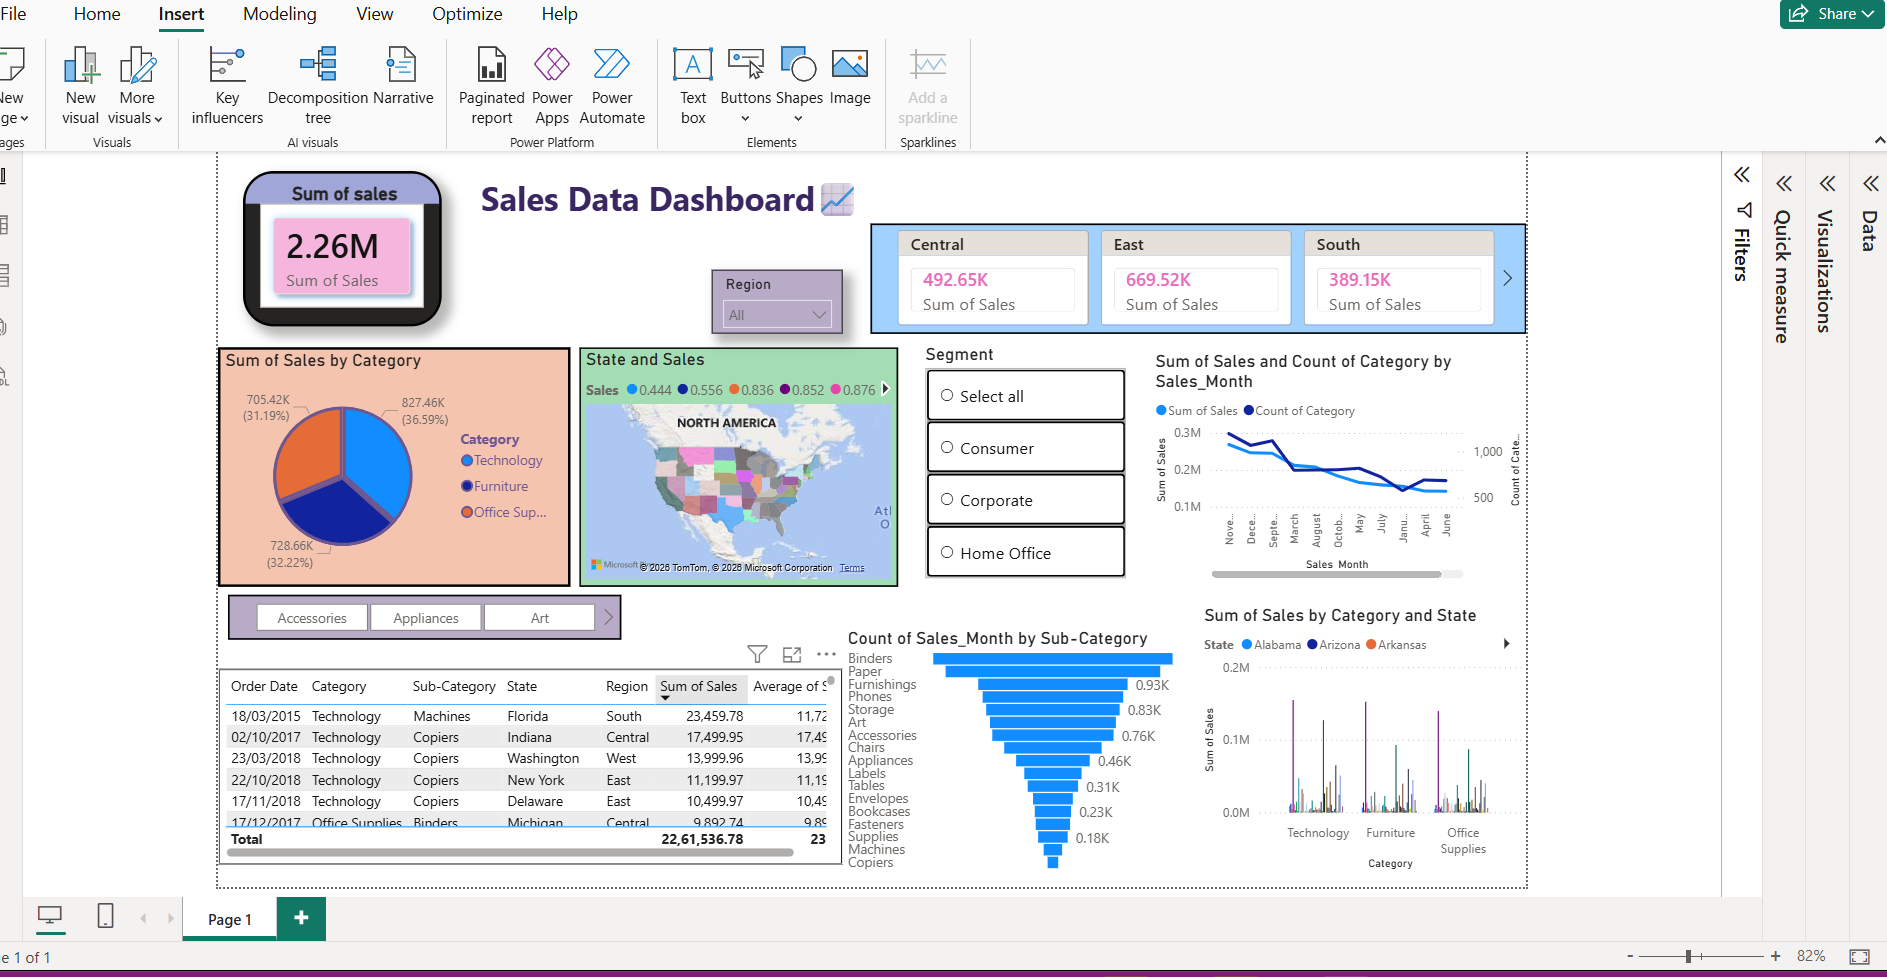

The dashboard page shown, as its layout file describes it:
{"tool":"powerbi","page":{"name":"Page 1","canvas":[1280,720],"ordinal":0},"visuals":[{"type":"textbox","box":[245.8,19.6,393.8,61.1],"z":0},{"type":"cardVisual","title":"Sum of sales","fields":{"Data":["Sum(train.Sales)"]},"box":[24.5,19.6,194.4,151.6],"z":1},{"type":"cardVisual","fields":{"Data":["Sum(train.Sales)"],"Rows":["train.Region"]},"box":[638.3,70.9,642,107.6],"z":2},{"type":"pieChart","fields":{"Y":["Sum(train.Sales)"],"Category":["train.Category"]},"box":[0,192,344.8,234.8],"z":5},{"type":"lineChart","fields":{"Y":["Sum(train.Sales)"],"Category":["train.Sales_Month"],"Y2":["CountNonNull(train.Category)"]},"box":[912.2,195.7,368.1,227.4],"z":6},{"type":"filledMap","fields":{"Series":["train.Sales"],"Category":["train.State"]},"box":[353.4,192,311.8,234.8],"z":7},{"type":"tableEx","fields":{"Values":["train.Order Date","train.Category","train.Sub-Category","train.State","train.Region","Sum(train.Sales)","Avg(train.Sales)"]},"box":[0,506.3,611.4,192],"z":8},{"type":"slicer","fields":{"Values":["train.Region"]},"box":[483,116.2,128.4,62.4],"z":9},{"type":"slicer","fields":{"Values":["train.Sub-Category"]},"box":[9.8,434.1,385.2,44],"z":10},{"type":"funnel","fields":{"Category":["train.Sub-Category"],"Y":["CountNonNull(train.Sales_Month)"]},"box":[611.4,465.9,332.6,242.1],"z":11},{"type":"clusteredColumnChart","fields":{"Y":["Sum(train.Sales)"],"Series":["train.State"],"Category":["train.Category"]},"box":[959.9,443.9,320.4,264.1],"z":12},{"type":"advancedSlicerVisual","fields":{"Values":["train.Segment"]},"box":[687.2,188.3,206.7,234.8],"z":13}]}

Visuals, with their boxes on the page's 1280x720 design canvas (x1, y1, x2, y2). These are canvas units, not pixel positions in the 1887x977 screenshot, which may show the page scaled, cropped or inside an application window:
textbox: (x1=246, y1=20, x2=640, y2=81)
"Sum of sales" cardVisual: (x1=24, y1=20, x2=219, y2=171)
cardVisual - Sum(train.Sales) x train.Region: (x1=638, y1=71, x2=1280, y2=178)
pieChart - Sum(train.Sales) x train.Category: (x1=0, y1=192, x2=345, y2=427)
lineChart - Sum(train.Sales) x train.Sales_Month: (x1=912, y1=196, x2=1280, y2=423)
filledMap - train.Sales x train.State: (x1=353, y1=192, x2=665, y2=427)
tableEx - train.Order Date x train.Category: (x1=0, y1=506, x2=611, y2=698)
slicer - train.Region: (x1=483, y1=116, x2=611, y2=179)
slicer - train.Sub-Category: (x1=10, y1=434, x2=395, y2=478)
funnel - train.Sub-Category x CountNonNull(train.Sales_Month): (x1=611, y1=466, x2=944, y2=708)
clusteredColumnChart - Sum(train.Sales) x train.State: (x1=960, y1=444, x2=1280, y2=708)
advancedSlicerVisual - train.Segment: (x1=687, y1=188, x2=894, y2=423)
